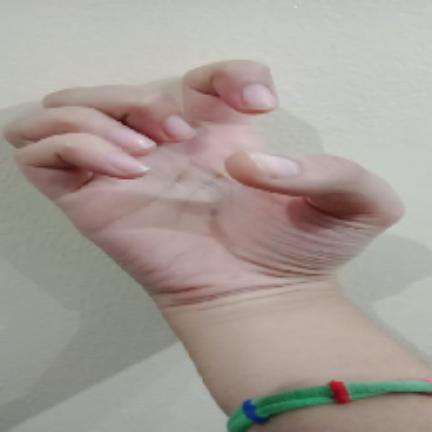Nail: (248, 153, 300, 179), (242, 84, 278, 110), (163, 115, 195, 140), (108, 154, 148, 174), (113, 129, 154, 148)
